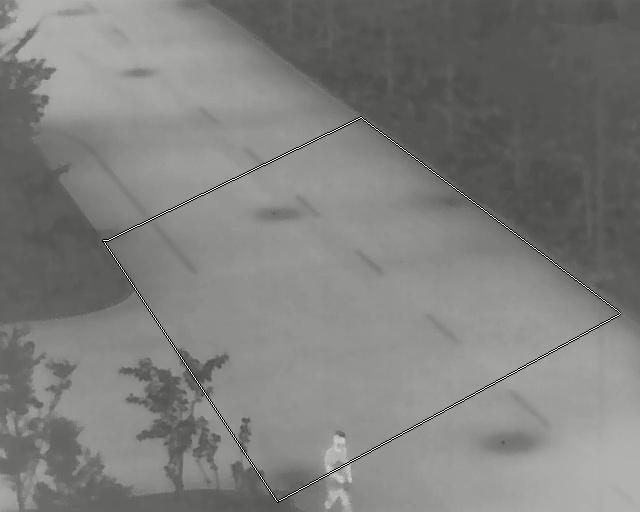person: (323, 430, 351, 512)
